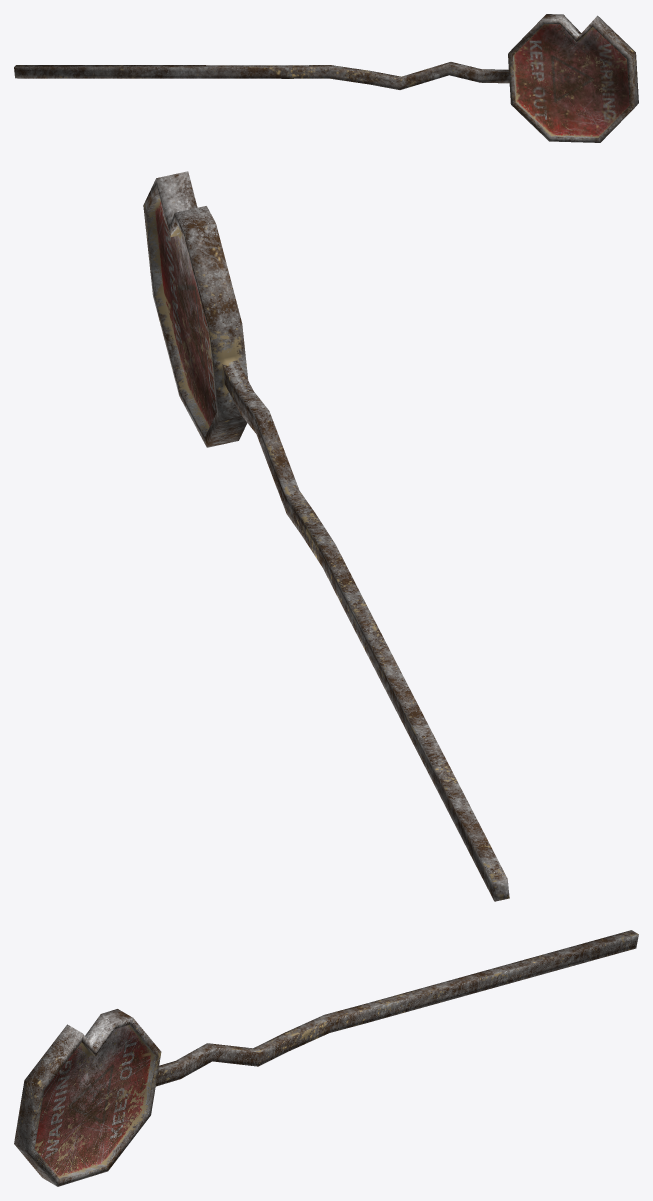
The model's file is Anim_idle_senyal_objetos.0038.obj.
3 views of the same model, one above another, from view 1: azimuth 30°, elevation 25°; view 2: azimuth 150°, elevation 25°; view 3: azimuth 270°, elevation 25° (orthographic). The views are drawn at different scales.
Size of the model in its own units: 9.02 by 2.6 by 9.02.
